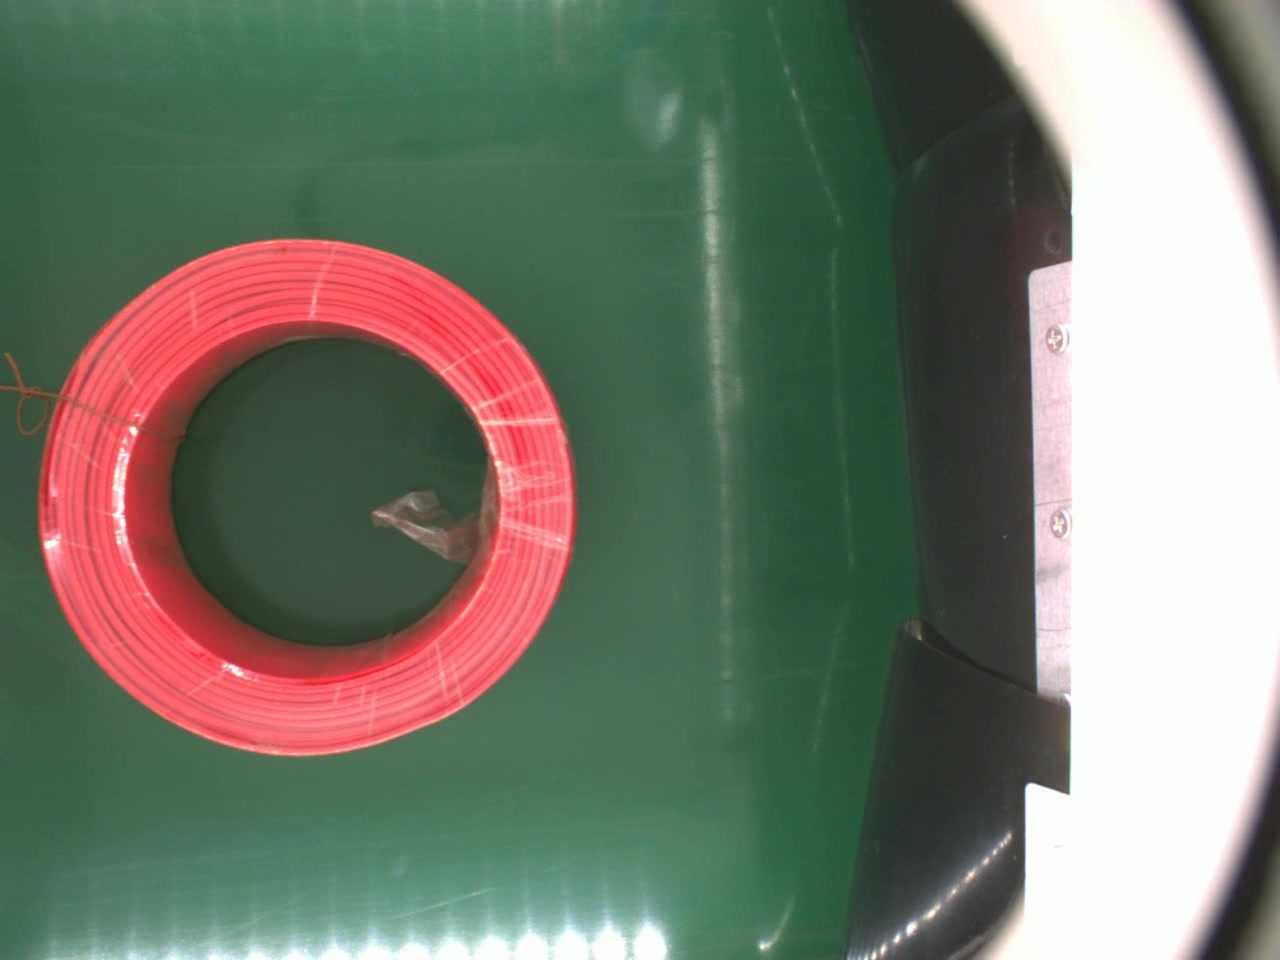red: (33, 238, 574, 756)
